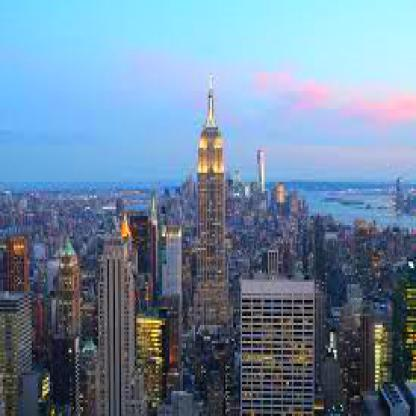Empire-State-building: (194, 64, 236, 324)
